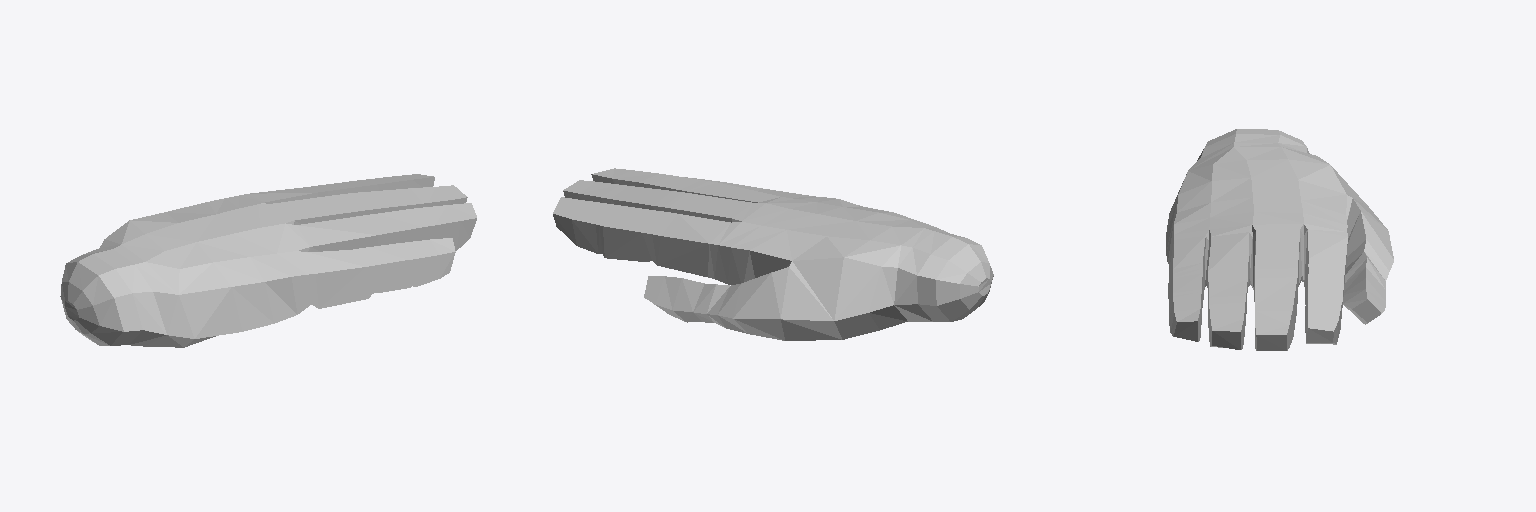
The model's file is rHand.obj.
3 renders of one model, left to right at view 1: azimuth 30°, elevation 25°; view 2: azimuth 150°, elevation 25°; view 3: azimuth 270°, elevation 25°, orthographic.
Parts seen in each view (by area): view 1: Body.001; view 2: Body.001; view 3: Body.001.
Boxes of the visible parts, x1=… form: Body.001: x1=60, y1=174, x2=476, y2=347; Body.001: x1=553, y1=168, x2=993, y2=340; Body.001: x1=1166, y1=129, x2=1393, y2=350.
Bounding box in the file's own units: 0.2052 × 0.0435 × 0.1009.